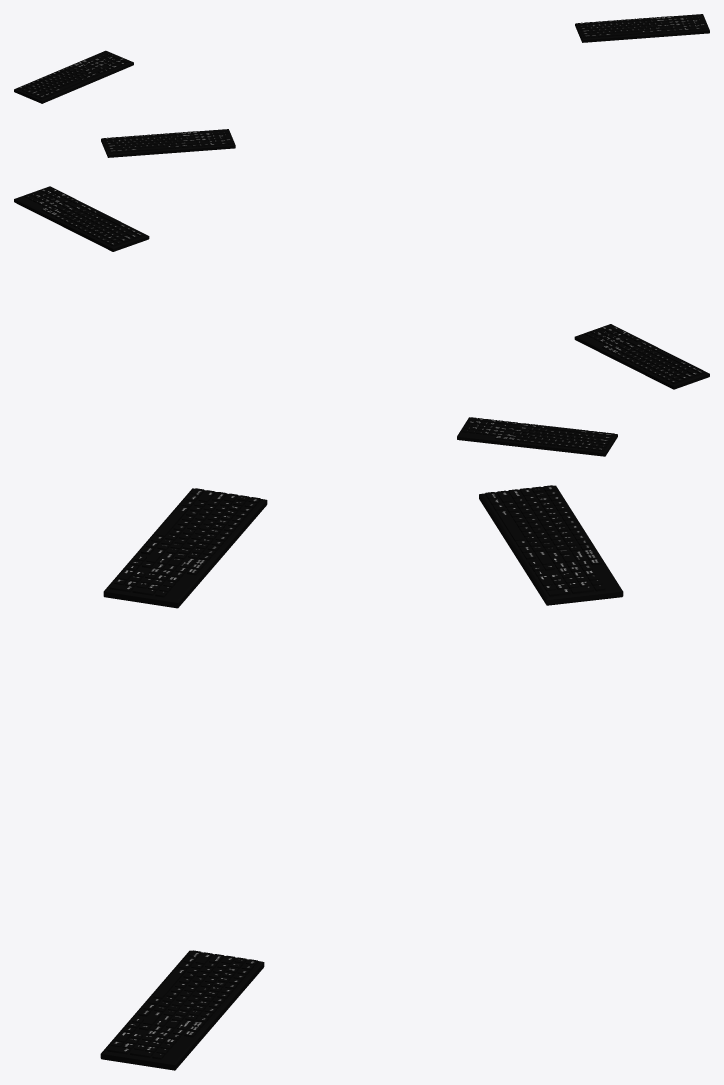
File: ComputersGroup02.glb
3 renders of one model, top to bottom at view 1: azimuth 30°, elevation 25°; view 2: azimuth 150°, elevation 25°; view 3: azimuth 270°, elevation 25°, orthographic. The views are drawn at different scales.
Parts seen in each view (by area): view 1: Keyboard013 (×3); view 2: Keyboard013 (×3); view 3: Keyboard013 (×3).
Boxes of the visible parts, box(x1,y1,x2,y2) form: Keyboard013 (×3): box(14, 14, 709, 157); Keyboard013 (×3): box(14, 186, 709, 456); Keyboard013 (×3): box(100, 485, 623, 1070).
Bounding box in the file's own units: 2.17 × 0.0149 × 0.8265.
1 material, 1 textured.
